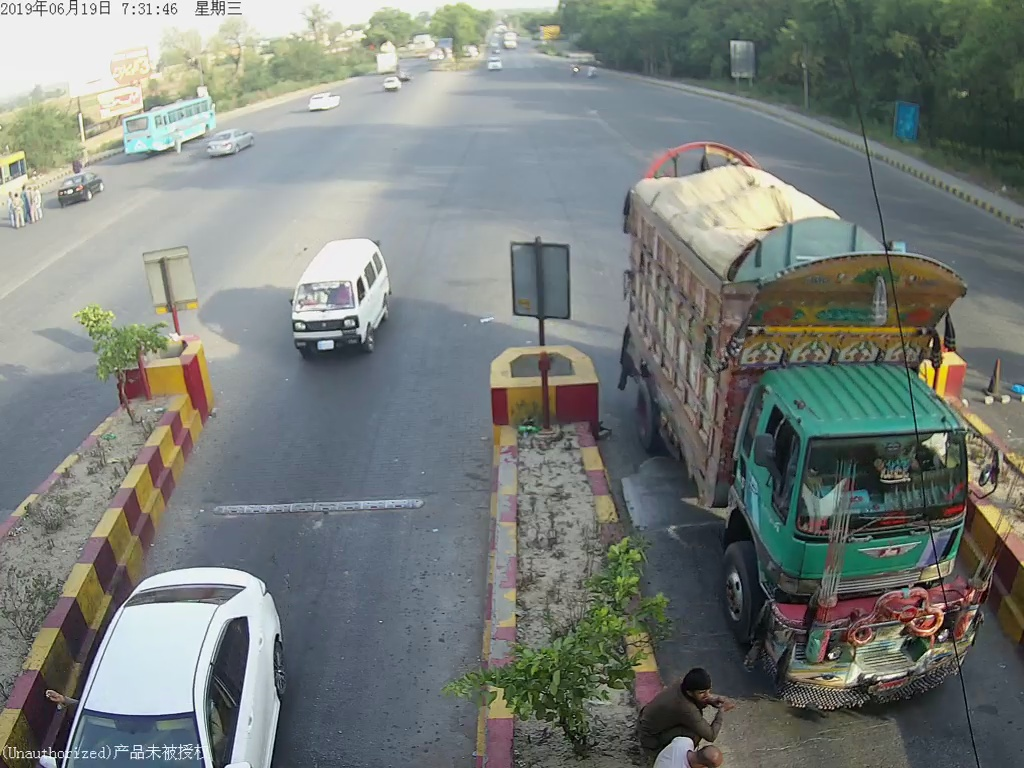Cat-1: (278, 239, 404, 363)
Cat-4: (727, 239, 990, 712)
